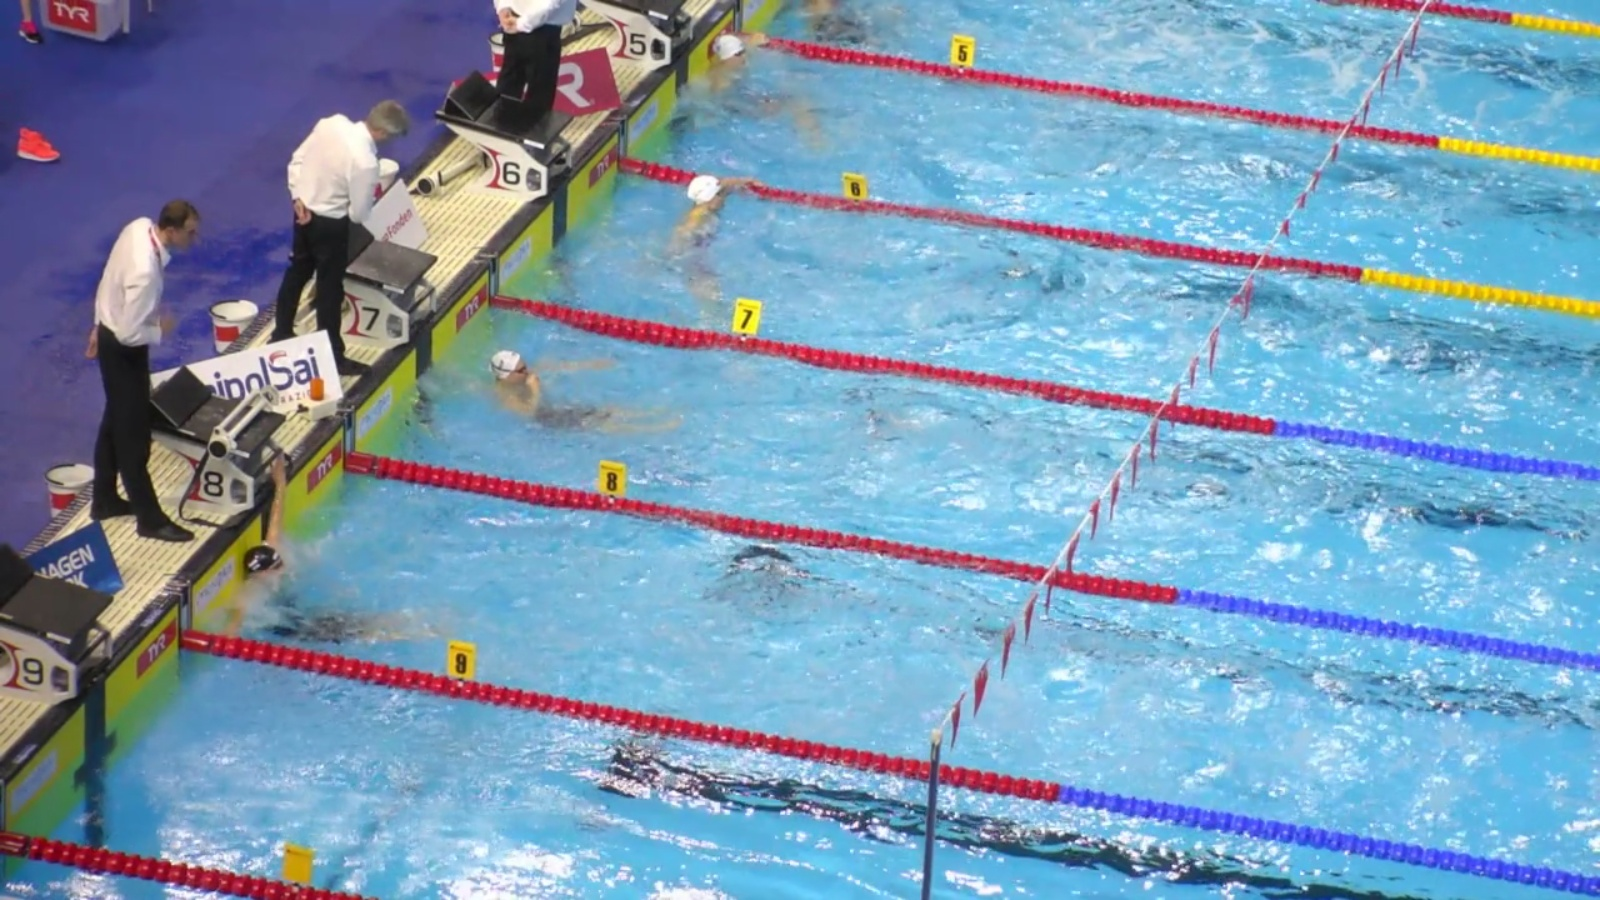swimmerw: (238, 457, 438, 651), (485, 345, 703, 452), (697, 25, 838, 153), (655, 162, 746, 327), (816, 1, 875, 45)
